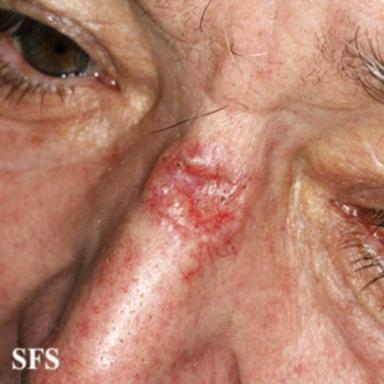basal-cell-carcinoma: (140, 141, 250, 248)
